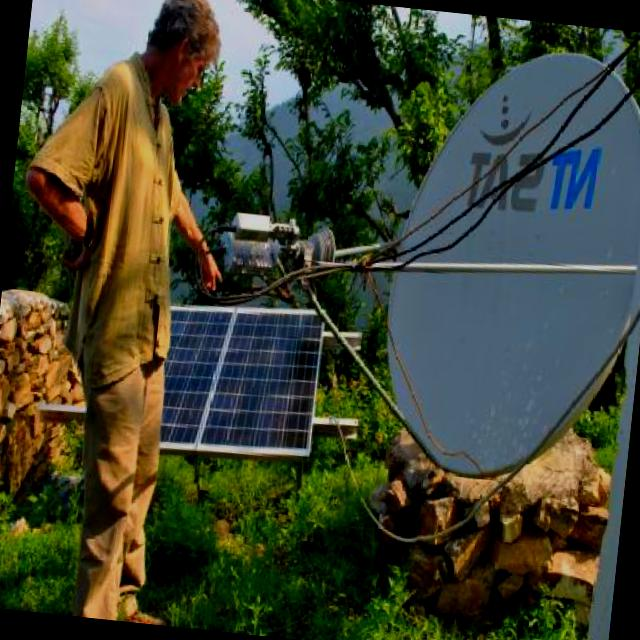Person: (15, 0, 236, 602)
